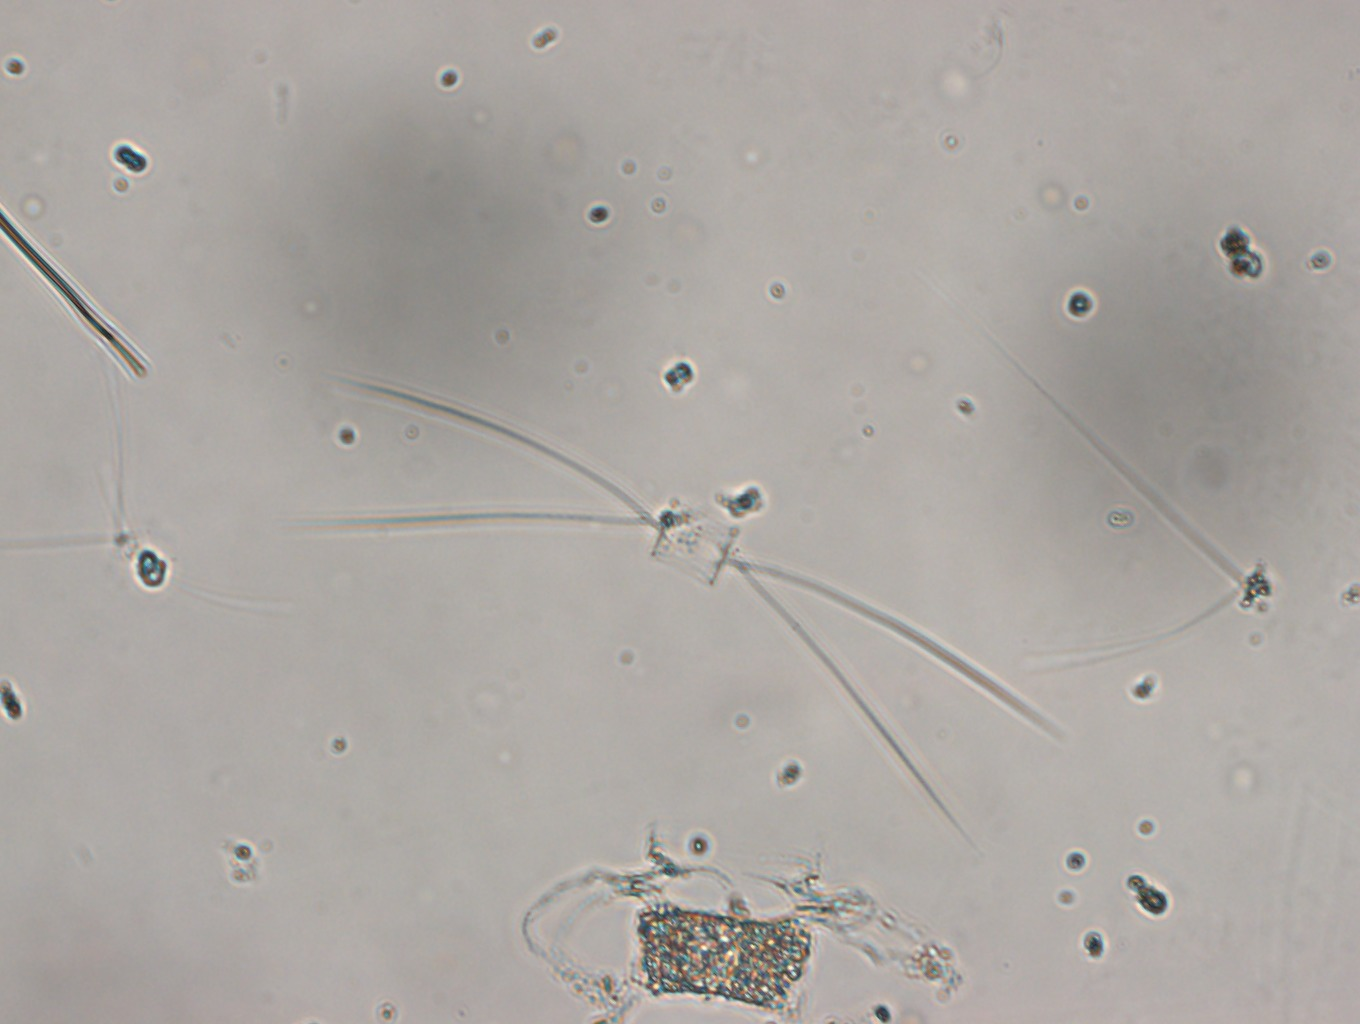chaetoceros: (344, 367, 1043, 781)
